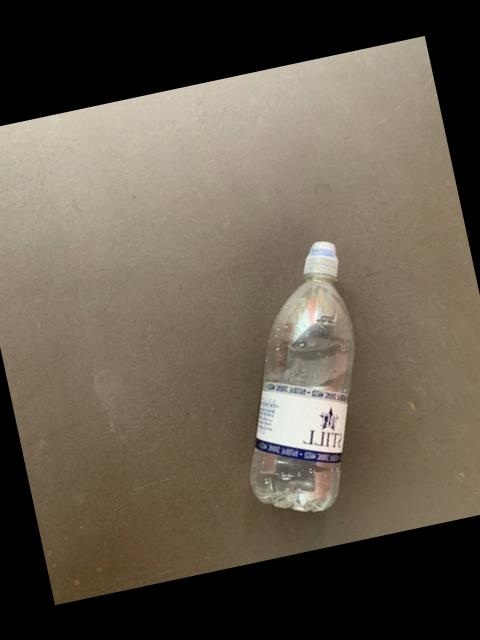plastic: (248, 240, 351, 510)
